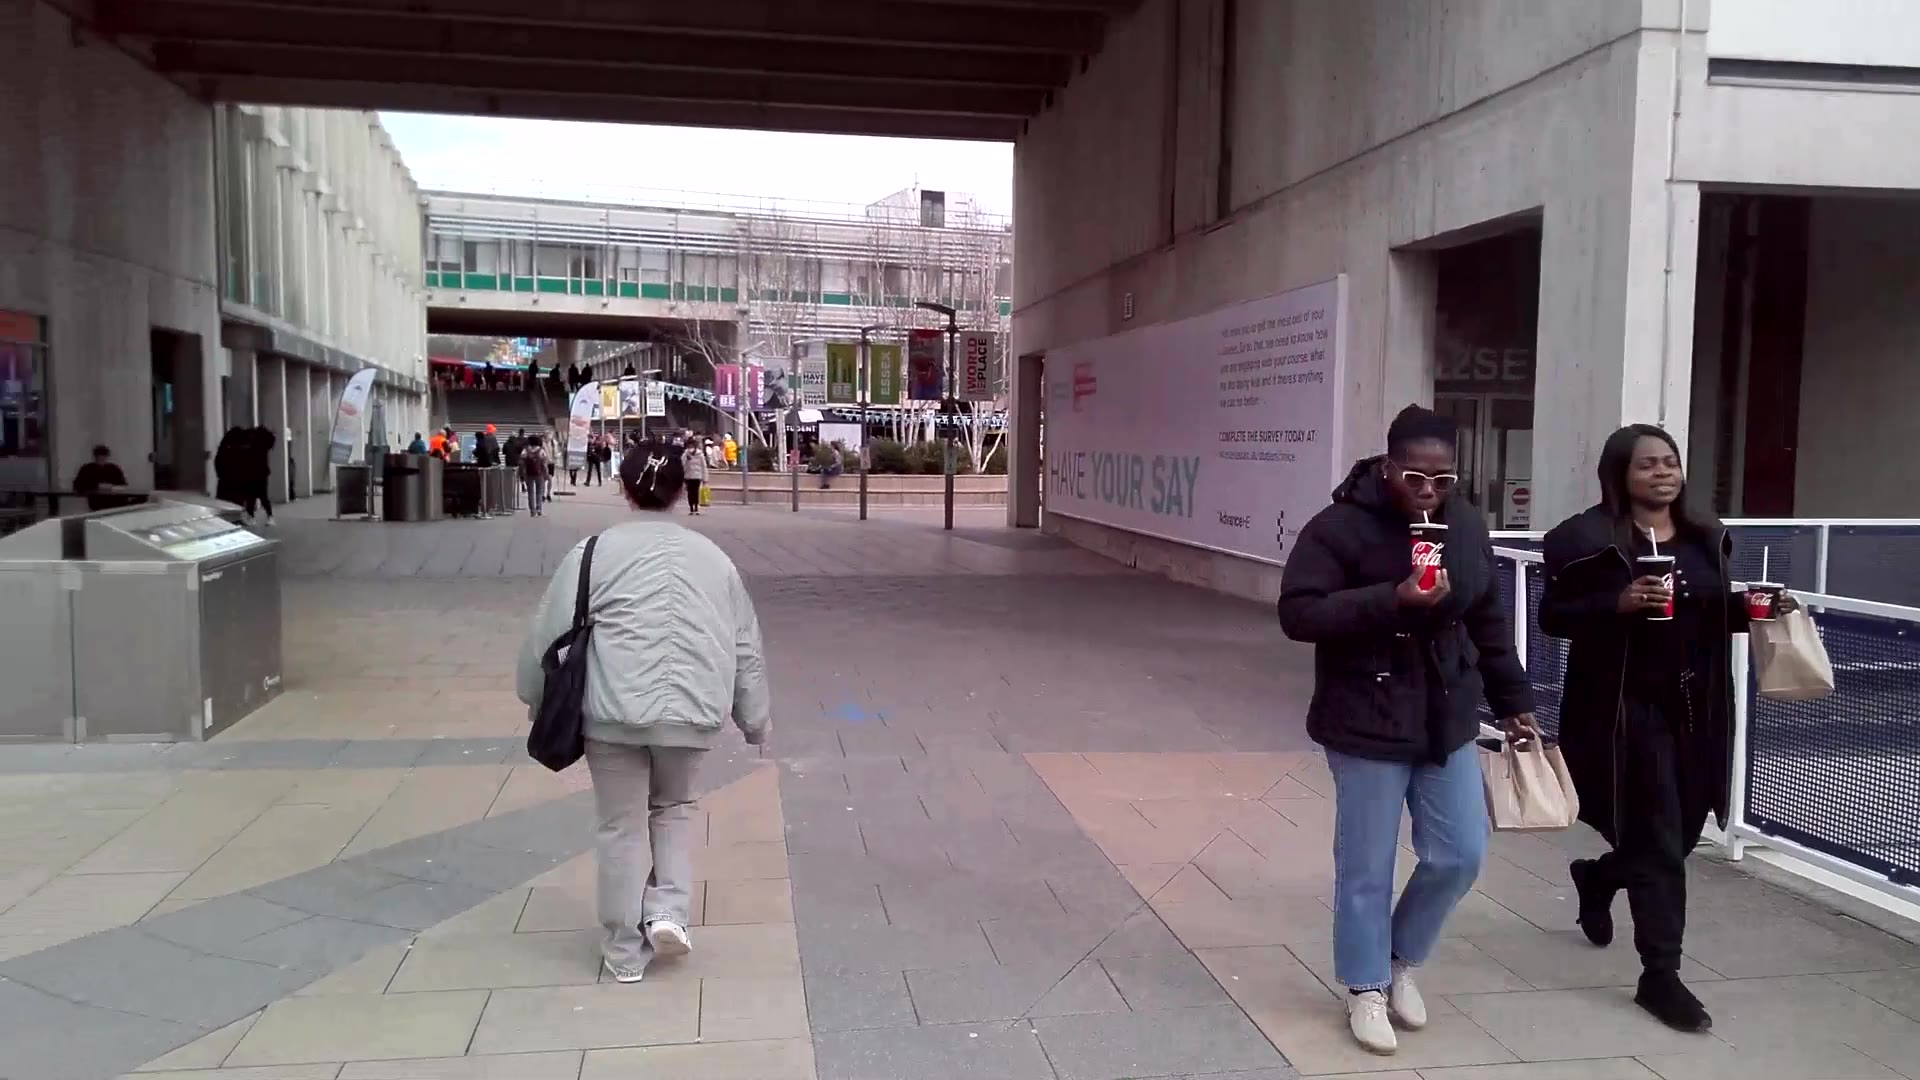Backpack: (529, 633, 600, 791)
Bin: (86, 503, 290, 745), (1, 503, 85, 746), (382, 451, 449, 523)
Person: (528, 443, 773, 987), (1572, 425, 1742, 1033), (1328, 409, 1469, 1058)
